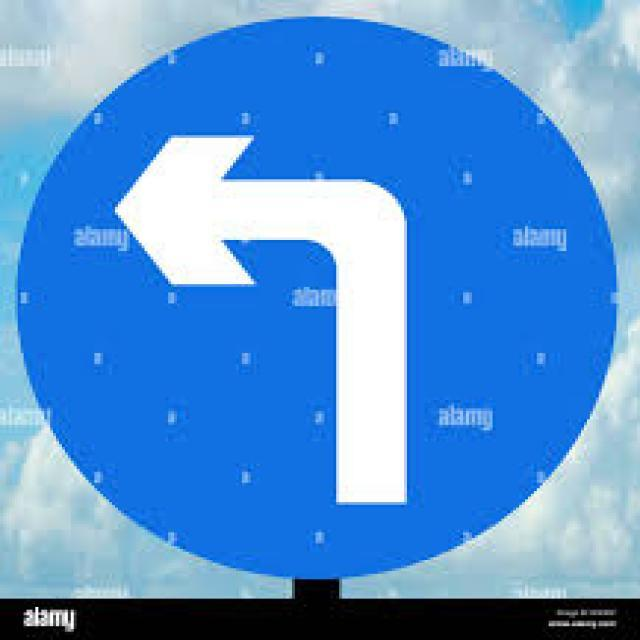compulsary turn left ahead: (23, 20, 611, 576)
